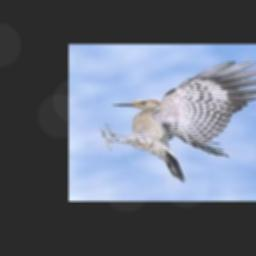Woodpecker: (99, 61, 256, 182)
